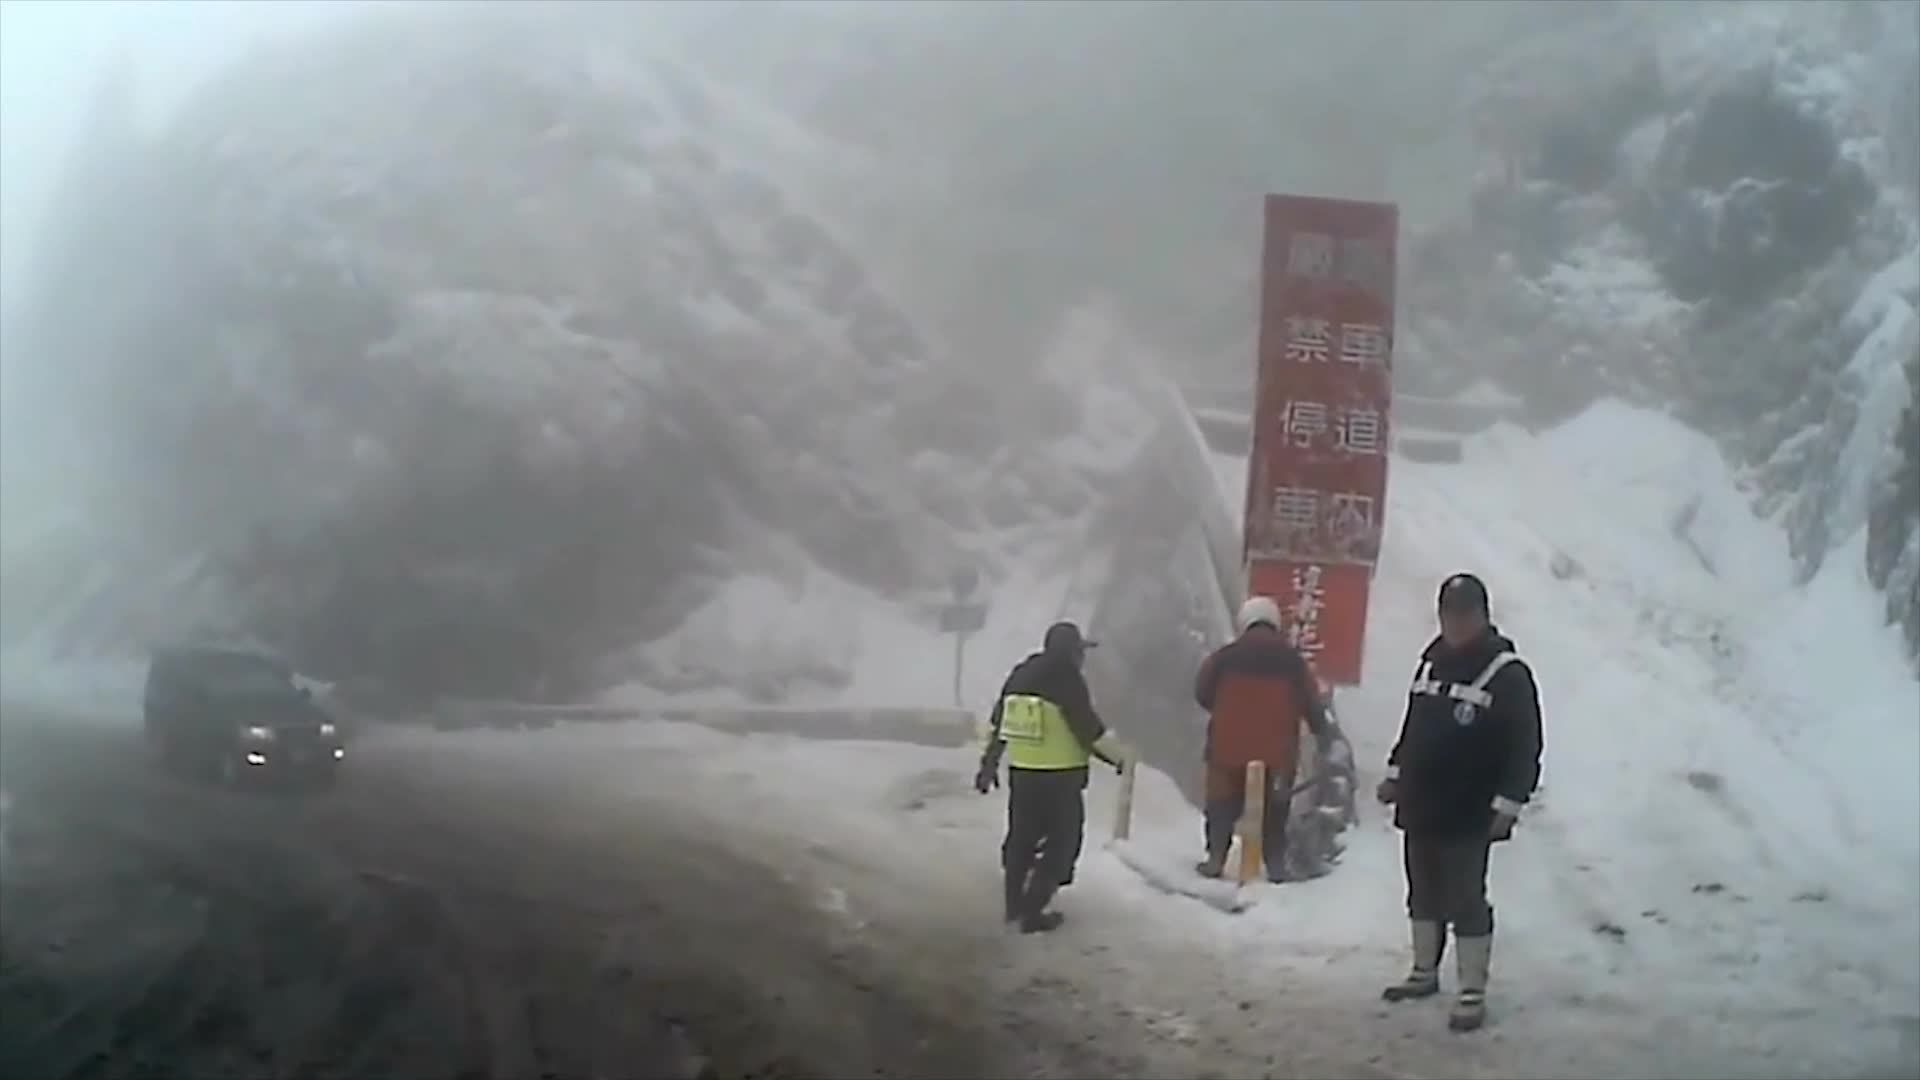pedestrian: (1382, 573, 1555, 1030), (975, 624, 1115, 934), (1191, 595, 1337, 880)
vehicle: (139, 642, 344, 792)
